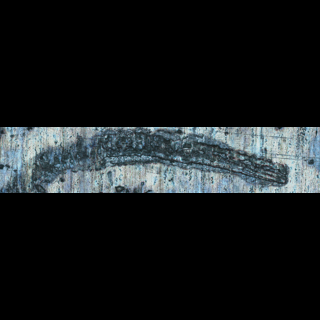d: (6, 126, 292, 190)
